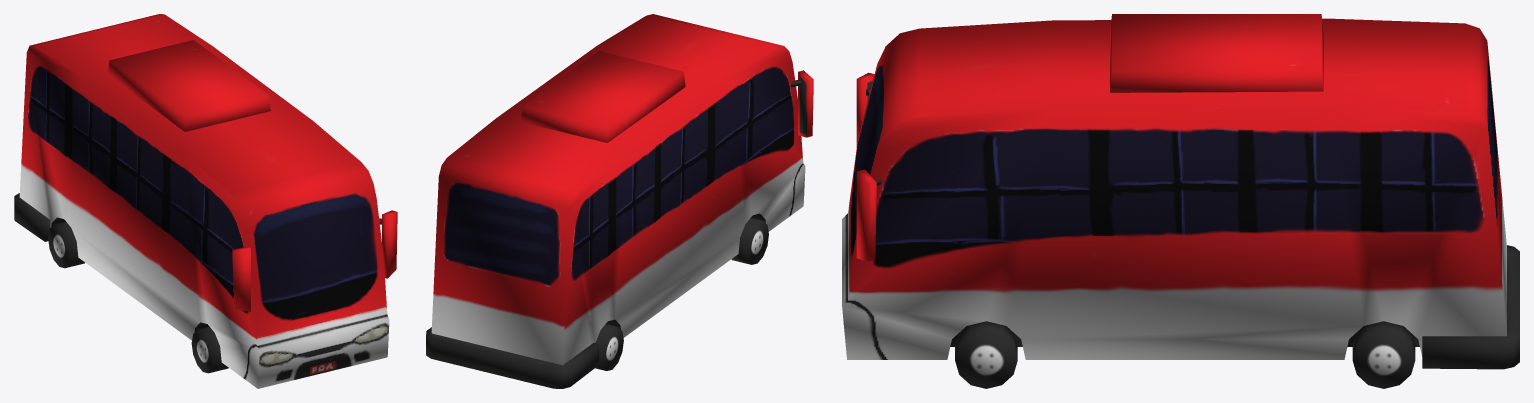
File: Onibus_3.glb
3 renders of one model, left to right at view 1: azimuth 30°, elevation 25°; view 2: azimuth 150°, elevation 25°; view 3: azimuth 270°, elevation 25°, orthographic. The views are drawn at different scales.
Visible parts, largest first — view 1: Lotacao; view 2: Lotacao; view 3: Lotacao.
Boxes of the visible parts, x1,y1,x2,y2 form: Lotacao: [14, 14, 397, 388]; Lotacao: [426, 14, 813, 388]; Lotacao: [842, 14, 1519, 388].
Bounding box in the file's own units: 3.58 × 4.47 × 9.17.
1 material, 1 textured.
